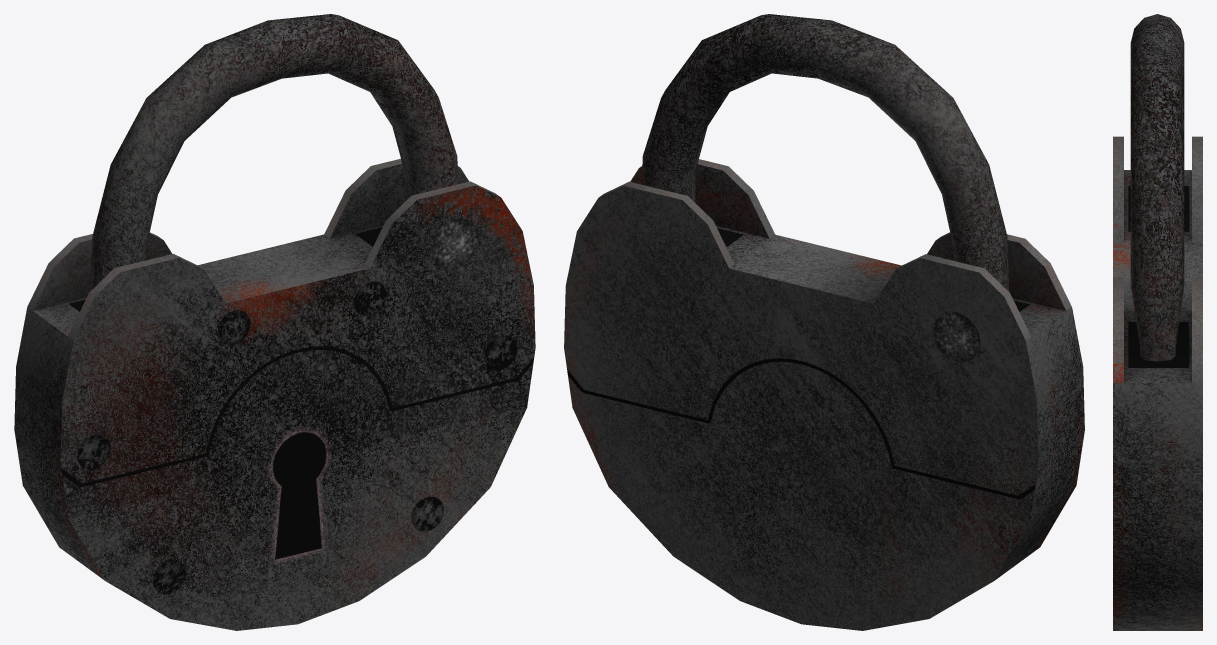
3 renders of one model, left to right at view 1: azimuth 30°, elevation 25°; view 2: azimuth 150°, elevation 25°; view 3: azimuth 270°, elevation 25°, orthographic. The views are drawn at different scales.
Parts seen in each view (by area): view 1: lock; view 2: lock; view 3: lock.
Part boxes in pixels (bbox=[...]): lock: bbox=[14, 14, 535, 630]; lock: bbox=[564, 14, 1084, 630]; lock: bbox=[1113, 14, 1202, 630].
Size of the model in its own units: 20 by 23.57 by 3.37.
Materials: 1 (1 with a texture image).
